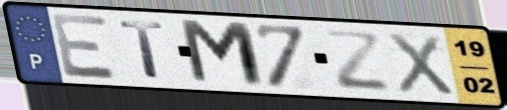7: (255, 22, 307, 91)
E: (48, 12, 122, 82)
M: (175, 17, 270, 91)
T: (116, 19, 169, 81)
X: (384, 30, 457, 98)
Z: (321, 27, 393, 94)
